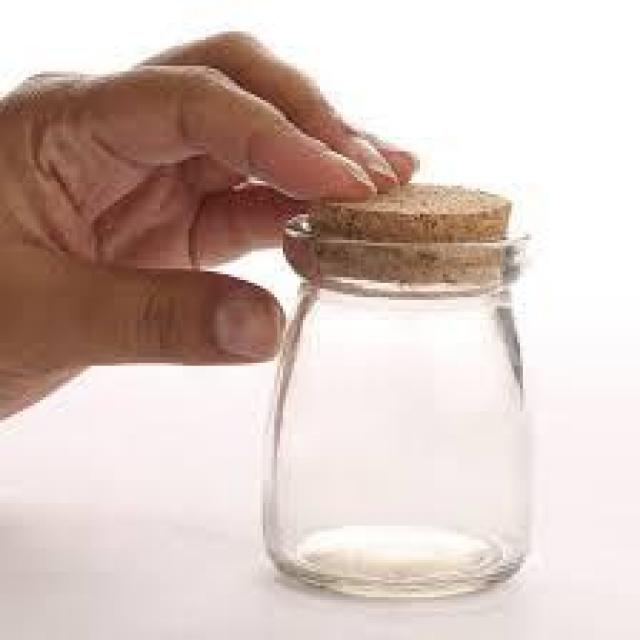non-organic waste: (256, 174, 544, 612)
